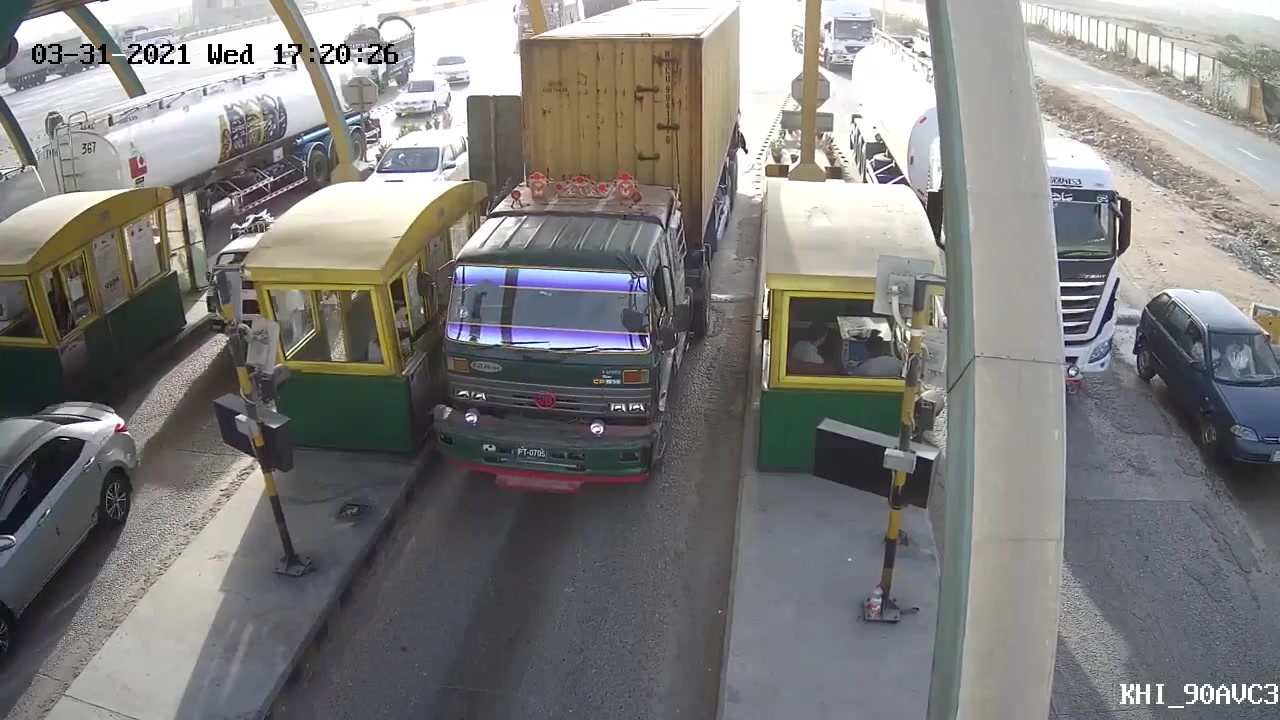F6: (424, 33, 712, 522)
